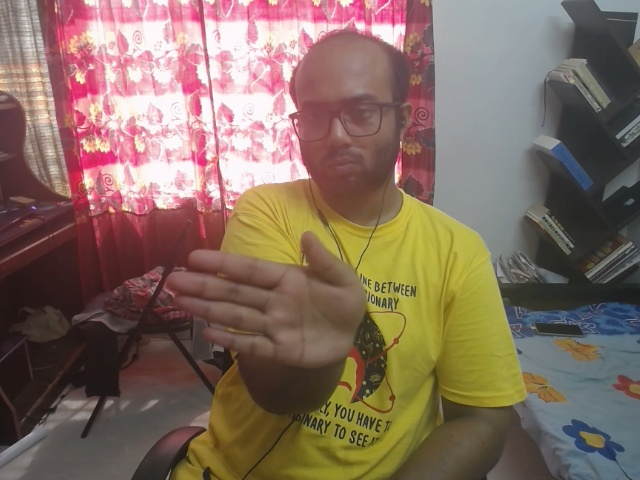south: (160, 223, 397, 383)
